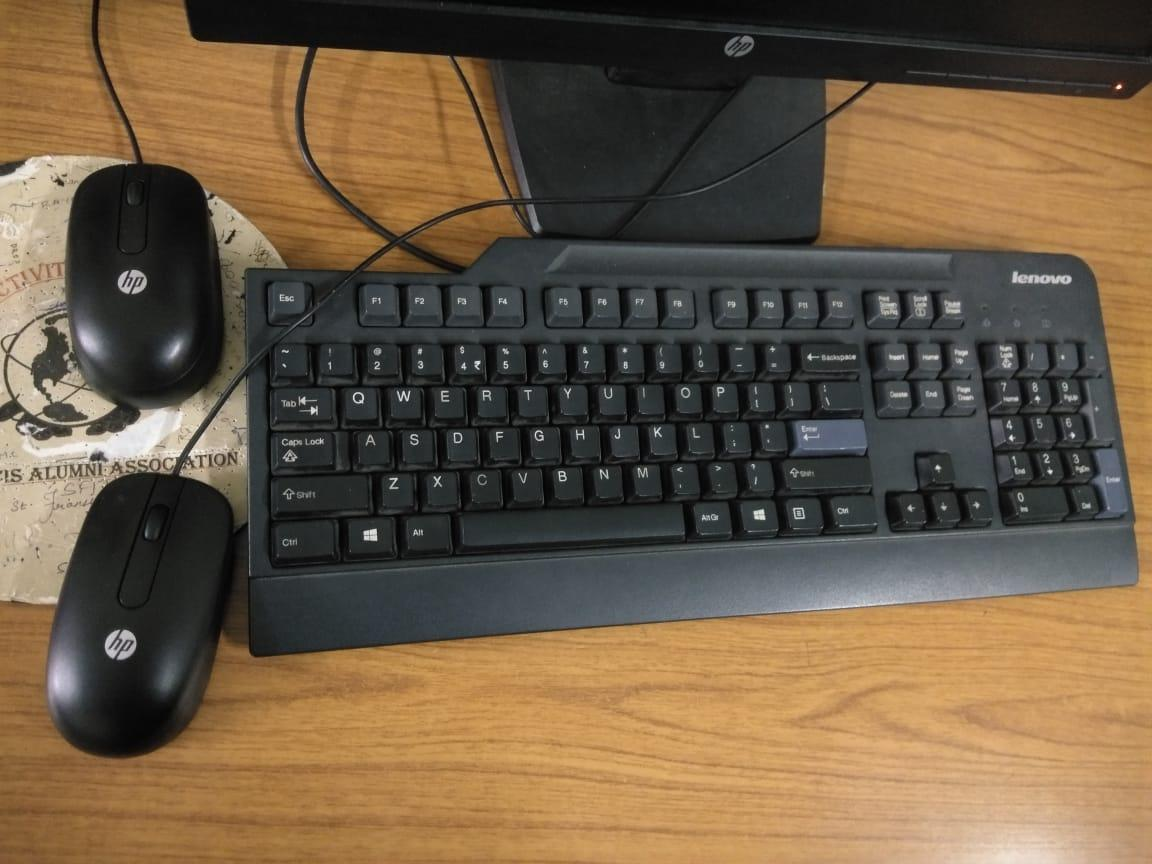keyboard: (231, 221, 1146, 672)
mouse: (35, 466, 239, 770), (47, 145, 234, 421)
